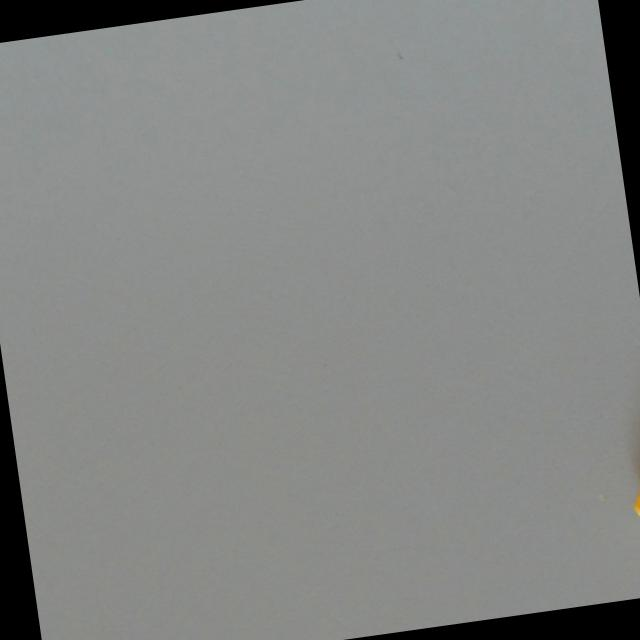pelicula: (610, 443, 640, 566)
